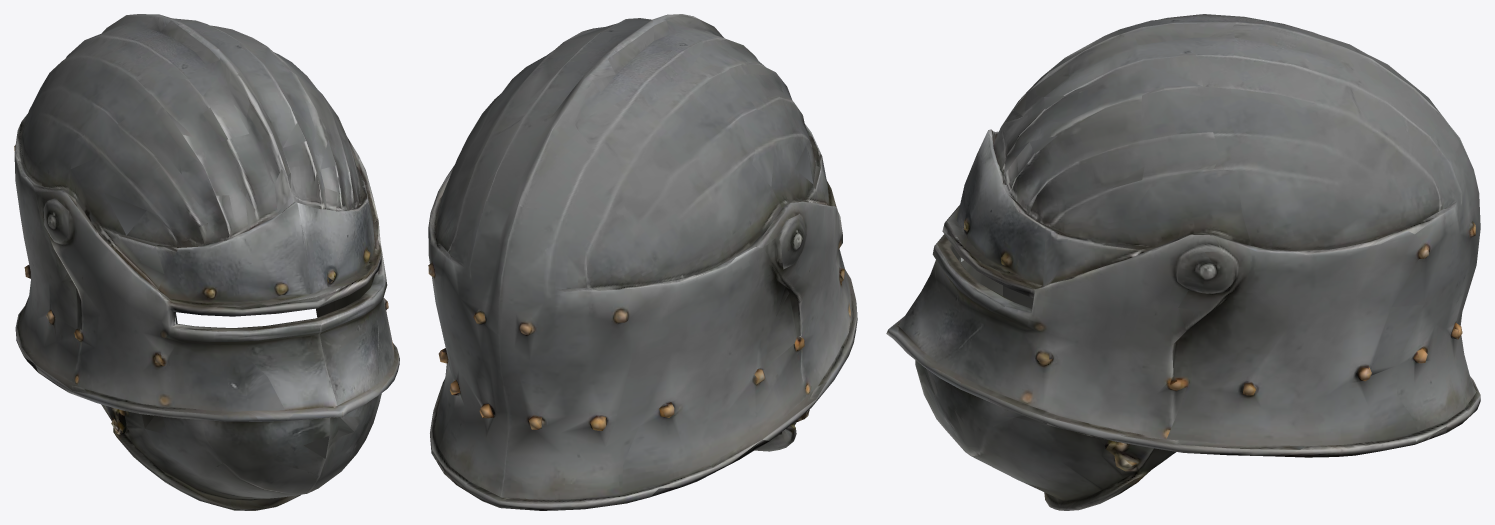
Rendered from helm_t2_sallet.glb.
3 views of the same model, side by side, from view 1: azimuth 30°, elevation 25°; view 2: azimuth 150°, elevation 25°; view 3: azimuth 270°, elevation 25° (orthographic). The views are drawn at different scales.
Visible parts, largest first — view 1: HelmT2Sallet; view 2: HelmT2Sallet; view 3: HelmT2Sallet.
Part boxes in pixels (bbox=[...]): HelmT2Sallet: bbox=[14, 14, 399, 510]; HelmT2Sallet: bbox=[428, 14, 857, 510]; HelmT2Sallet: bbox=[886, 14, 1480, 510].
Size of the model in its own units: 0.2332 by 0.315 by 0.3592.
1 material, 1 textured.
